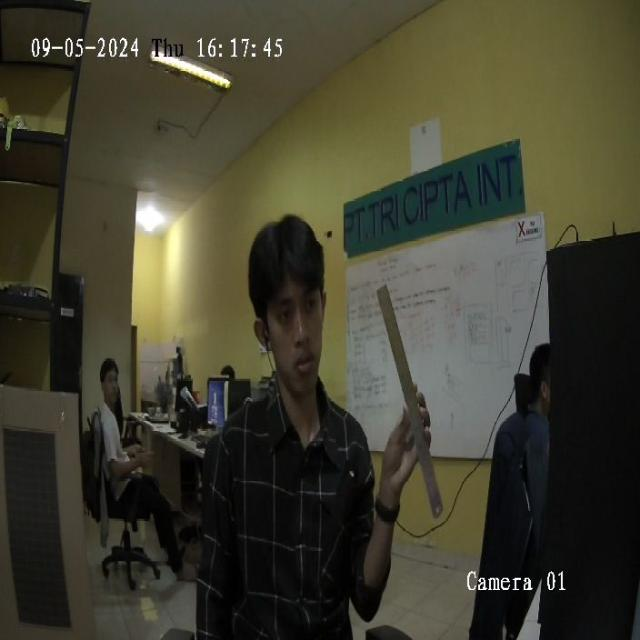Ruler: (377, 284, 442, 518)
